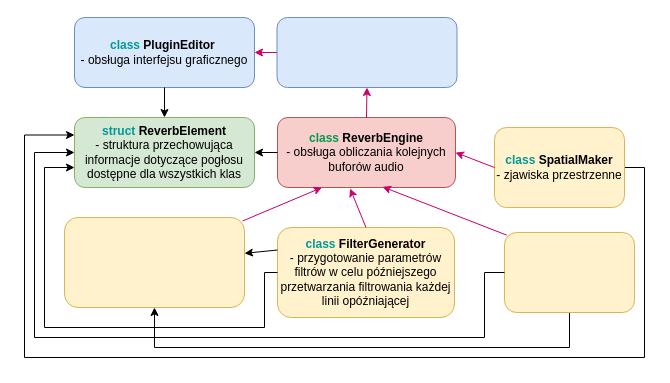
This 670x383 diagram has some shape labels left out. Here are the shapes that lost their labels. From the top down, the box of each, then its label:
(276, 16, 457, 88): class PluginProcessor - przetwarzanie kolejnych buforów audio
(64, 216, 244, 308): class DelayTimesGenerator - predefinicja czasów opóźnienia linii opóźniających
(504, 232, 634, 312): class LateReverb - synteza późnego ogona pogłosowego
